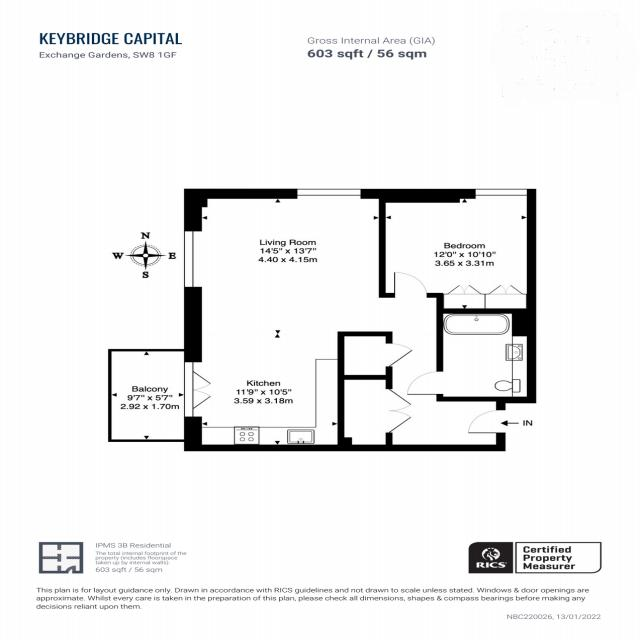DOOR: (390, 269, 430, 298), (465, 408, 506, 436), (404, 370, 444, 397)
DOUBLE DOOR: (183, 362, 216, 417)
ROOM: (378, 188, 537, 307)
WINDOW: (181, 228, 198, 289), (292, 186, 364, 199), (472, 185, 530, 199)
